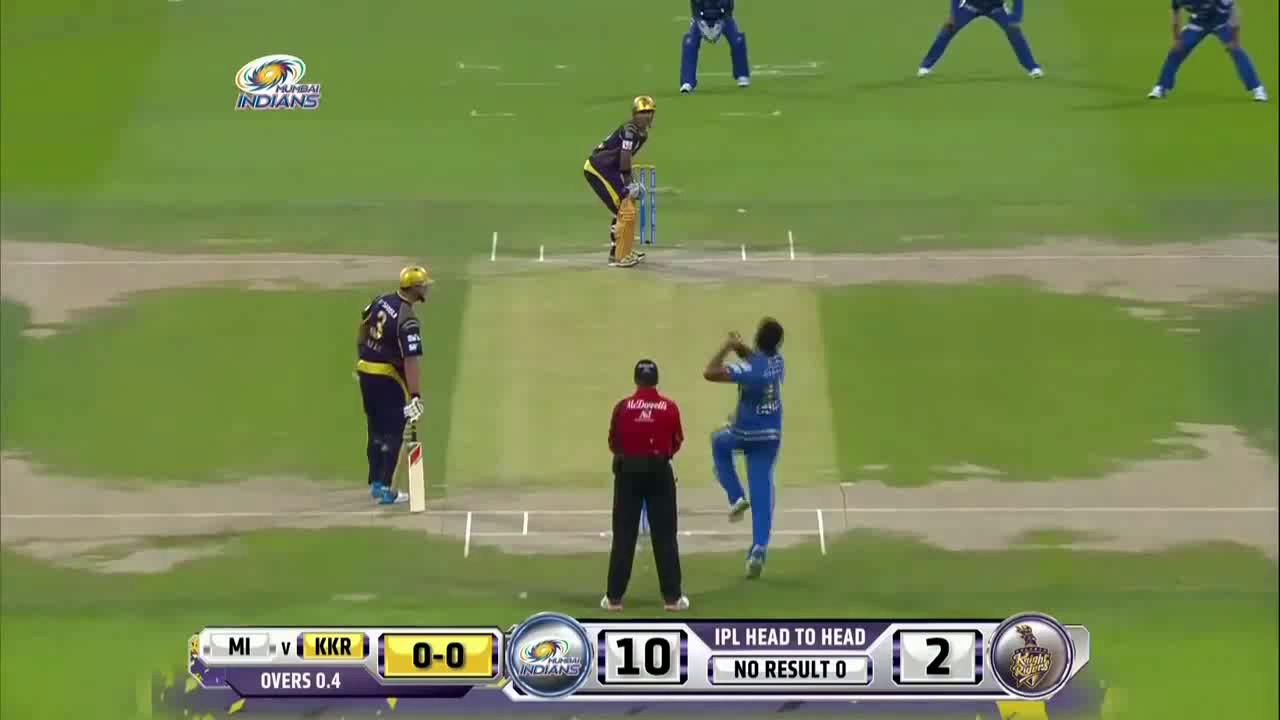bat: (406, 424, 427, 514)
